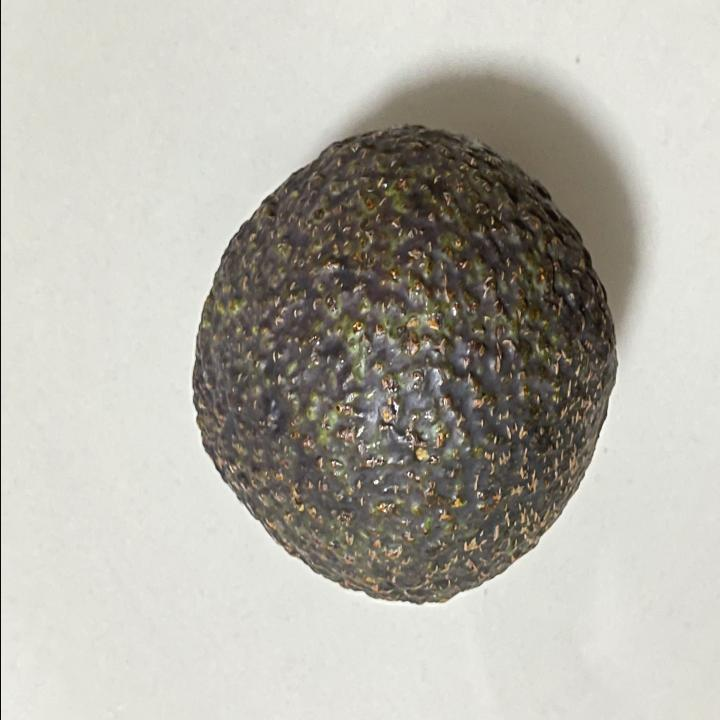Level1: (178, 112, 622, 620)
